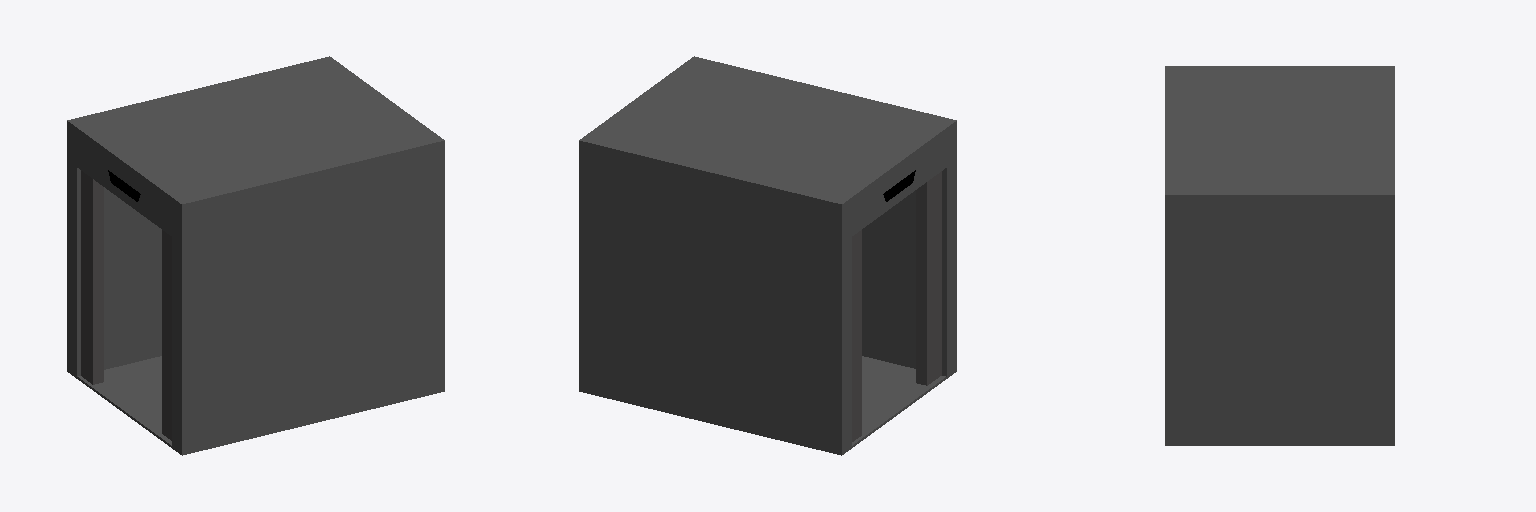
File: LiftObject.obj
The picture shows the model from 3 angles: view 1: azimuth 30°, elevation 25°; view 2: azimuth 150°, elevation 25°; view 3: azimuth 270°, elevation 25°; orthographic projection.
Visible parts, largest first — view 1: pCube1, pCube2, pCube3; view 2: pCube1, pCube3, pCube2; view 3: pCube1.
Boxes of the visible parts, box(x1,y1,x2,y2) form: pCube1: box(67, 56, 444, 455); pCube2: box(81, 171, 103, 384); pCube3: box(162, 230, 171, 440); pCube1: box(579, 56, 956, 455); pCube3: box(916, 171, 941, 385); pCube2: box(852, 230, 861, 441); pCube1: box(1165, 66, 1394, 445).
Size of the model in its own units: 11.83 by 10.8 by 8.96.